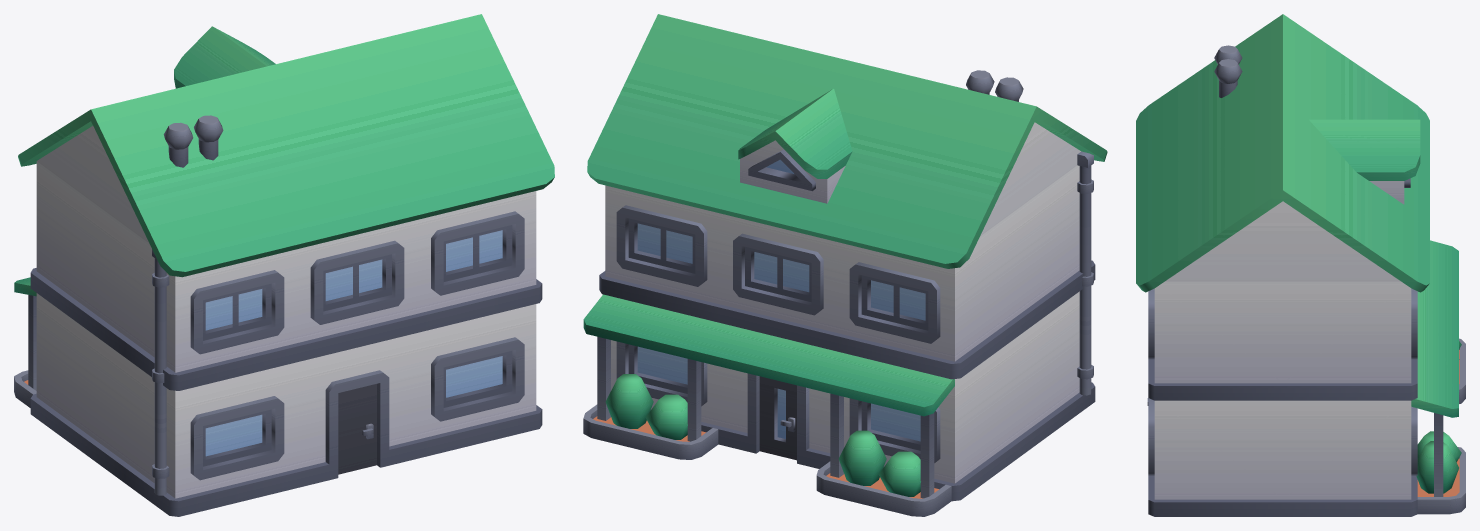
File: building-type-e.glb
3 renders of one model, left to right at view 1: azimuth 30°, elevation 25°; view 2: azimuth 150°, elevation 25°; view 3: azimuth 270°, elevation 25°, orthographic. The views are drawn at different scales.
Visible parts, largest first — view 1: building-type-e; view 2: building-type-e; view 3: building-type-e.
Boxes of the visible parts, x1=… form: building-type-e: x1=14, y1=14, x2=554, y2=516; building-type-e: x1=583, y1=14, x2=1107, y2=516; building-type-e: x1=1136, y1=14, x2=1465, y2=516.
Bounding box in the file's own units: 1.3 × 1.14 × 1.03.
1 material, 1 textured.
